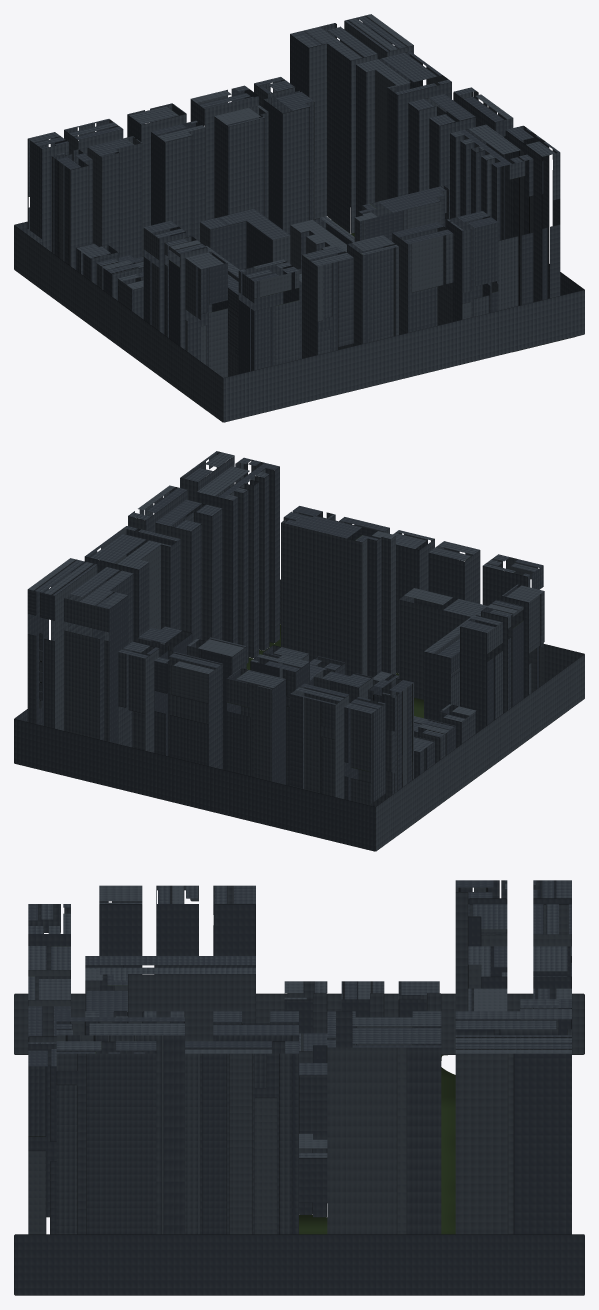
The model's file is buildings.dae.
The picture shows the model from 3 angles, top to bottom: view 1: azimuth 30°, elevation 25°; view 2: azimuth 150°, elevation 25°; view 3: azimuth 270°, elevation 25°; orthographic projection. The views are drawn at different scales.
Visible parts, largest first — view 1: Plane.002; view 2: Plane.002; view 3: Plane.002.
Part boxes in pixels (<box>): Plane.002: <box>14,14,584,422</box>; Plane.002: <box>14,451,584,851</box>; Plane.002: <box>14,880,584,1295</box>.
Bounding box in the file's own units: 20 × 20.05 × 9.15.
Materials: 1 (1 with a texture image).
